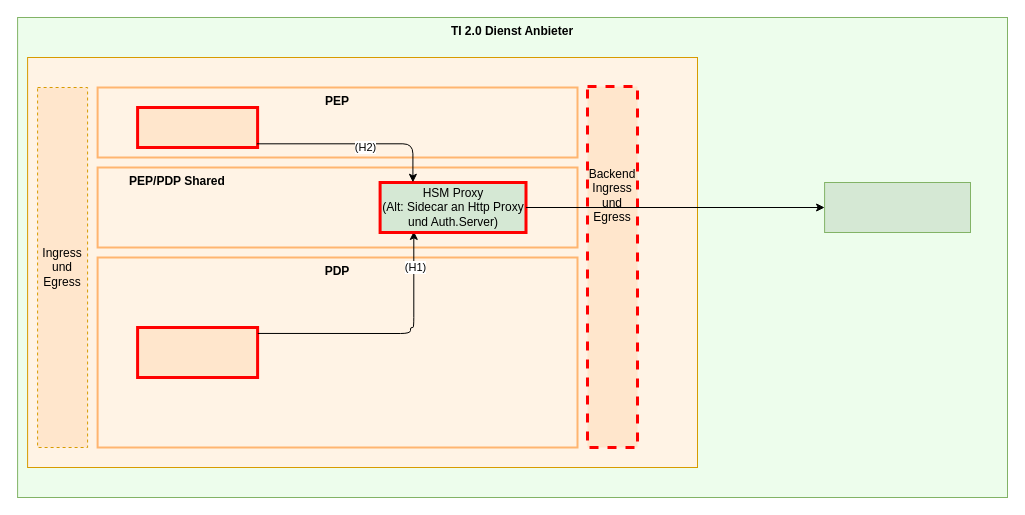
Image size: 1025x515. Some labels were removed from this diagram. Here are the shapes that lost their labels. From the top down, the box of each, then its label:
(136, 106, 259, 148): HTTP Proxy
(824, 182, 970, 232): HSM
(27, 56, 698, 468): ZETA Guard
(136, 326, 259, 378): Authorization Server
